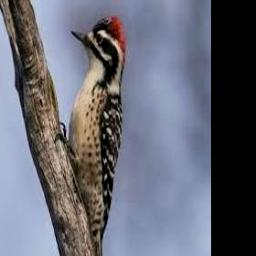Woodpecker: (55, 16, 128, 256)
